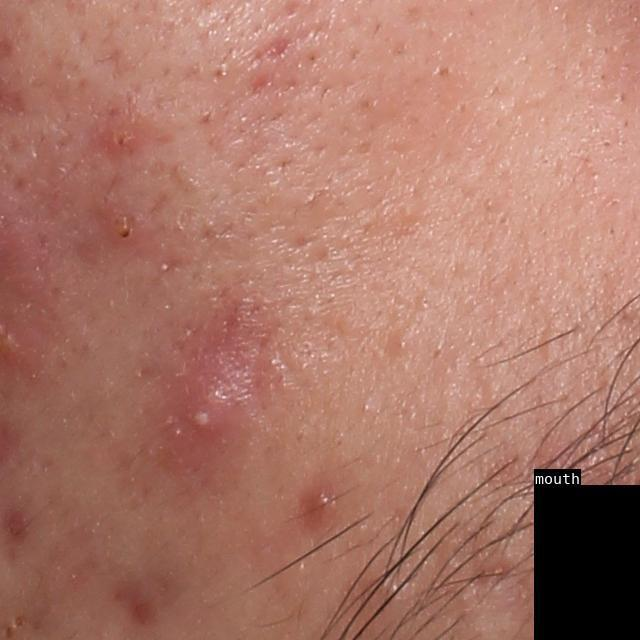atrophic_scar: (263, 30, 293, 58)
comedo: (390, 334, 411, 356), (12, 612, 26, 631)
pustule: (174, 357, 263, 470), (89, 107, 152, 162)
